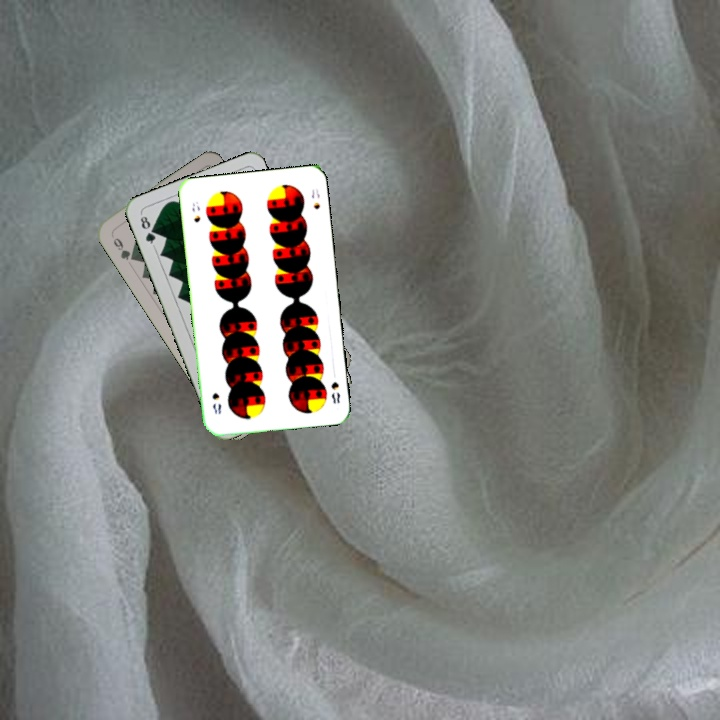G8: (136, 212, 158, 249)
G9: (107, 230, 138, 263)
S8: (327, 378, 342, 406), (188, 198, 203, 225)
